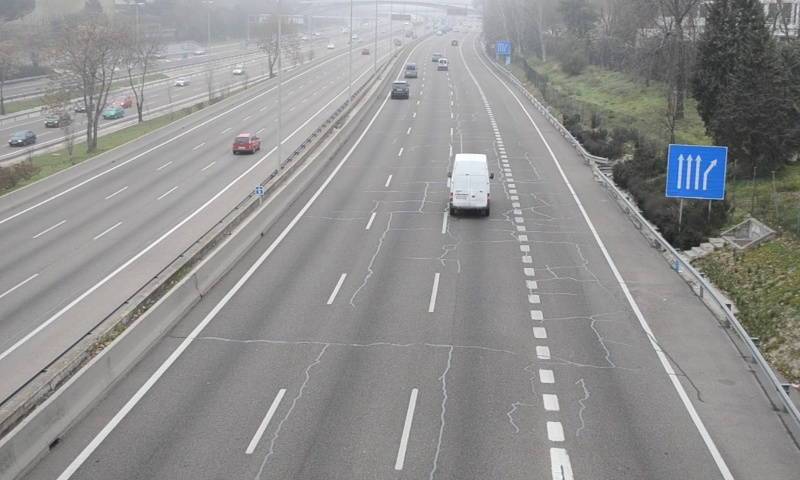car: (392, 80, 410, 99)
van: (448, 153, 492, 217), (404, 62, 417, 80)
